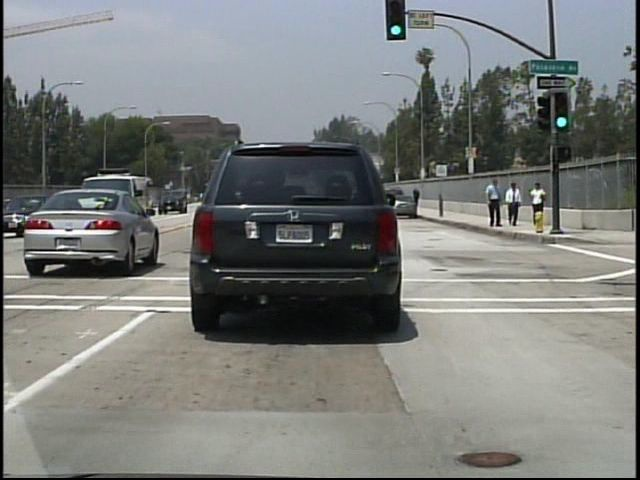person: (485, 179, 504, 233), (504, 180, 524, 227), (529, 180, 547, 212), (411, 186, 422, 209)
